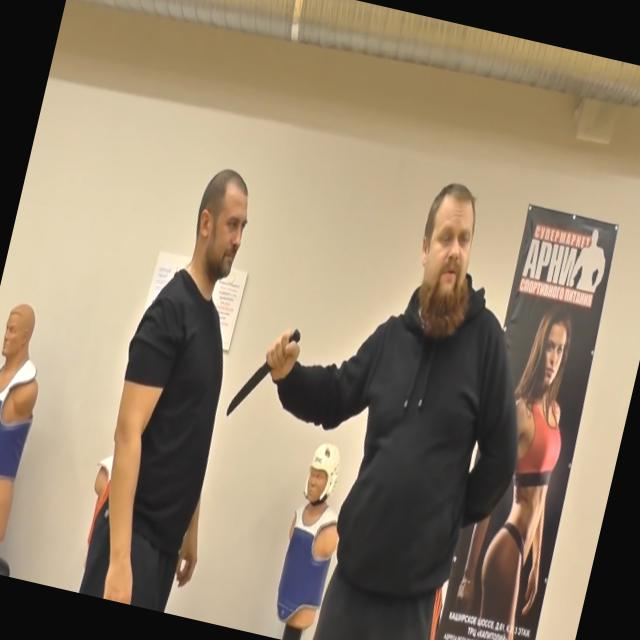knife: (220, 312, 304, 432)
